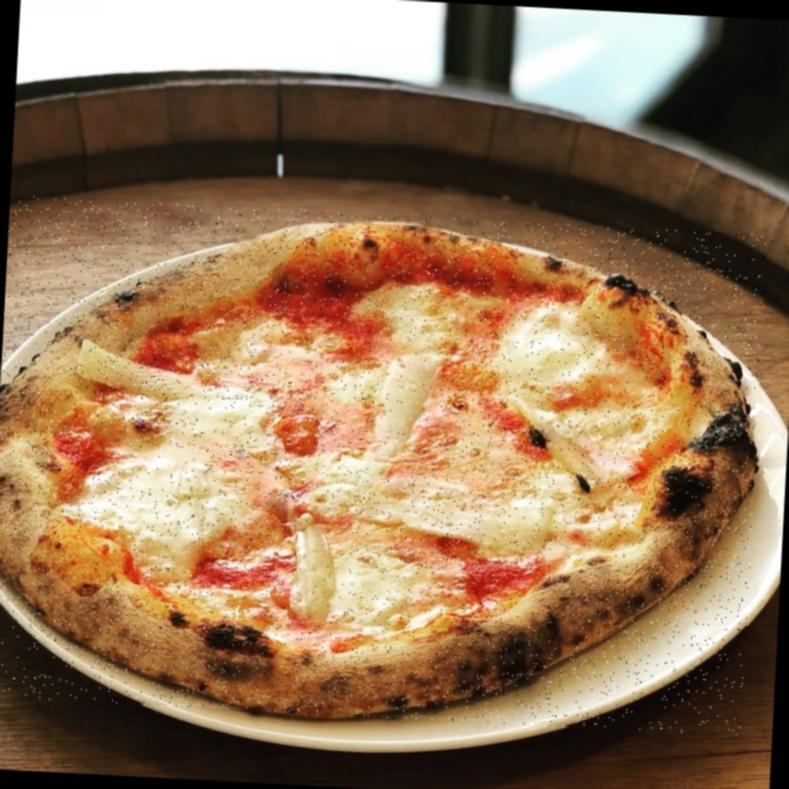Cheese: (71, 345, 257, 410), (274, 506, 350, 622), (370, 347, 441, 465)
Pizza: (0, 195, 767, 736)
